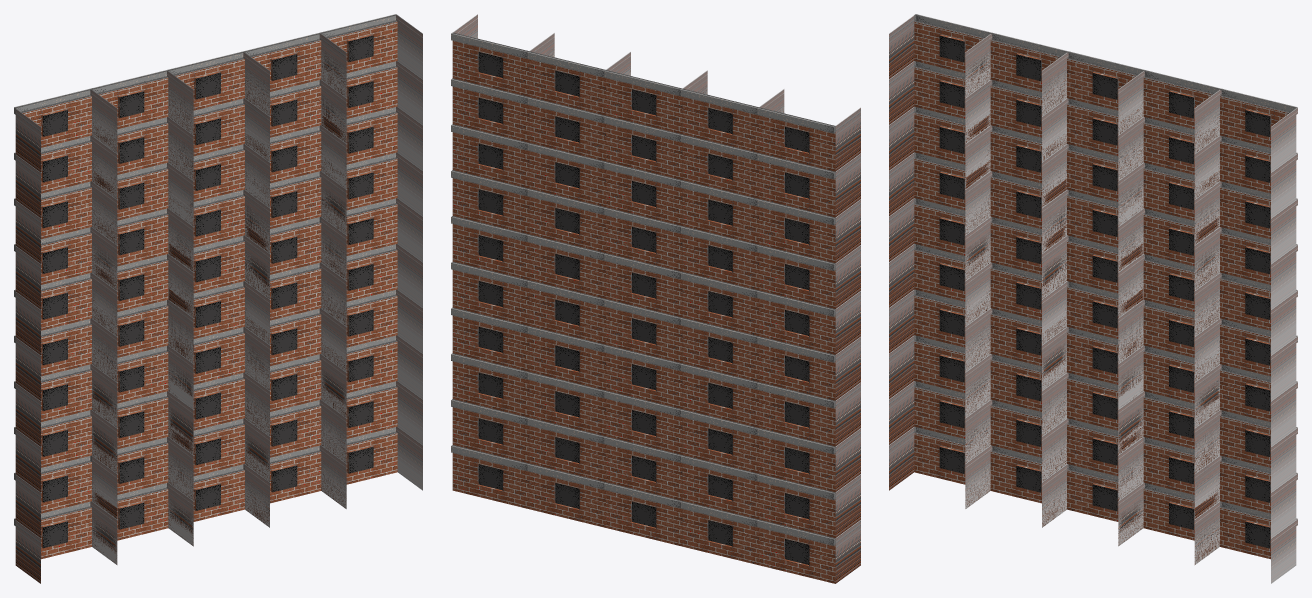
File: house.fbx
3 renders of one model, left to right at view 1: azimuth 30°, elevation 25°; view 2: azimuth 150°, elevation 25°; view 3: azimuth 330°, elevation 25°, orthographic.
Visible parts, largest first — view 1: Makuuhuone; view 2: Makuuhuone; view 3: Makuuhuone.
Boxes of the visible parts, <box> form: Makuuhuone: <box>14,14,422,583</box>; Makuuhuone: <box>451,14,860,583</box>; Makuuhuone: <box>889,14,1297,583</box>.
Bounding box in the file's own units: 3061 × 3500 × 372.
Materials: 1 (1 with a texture image).
